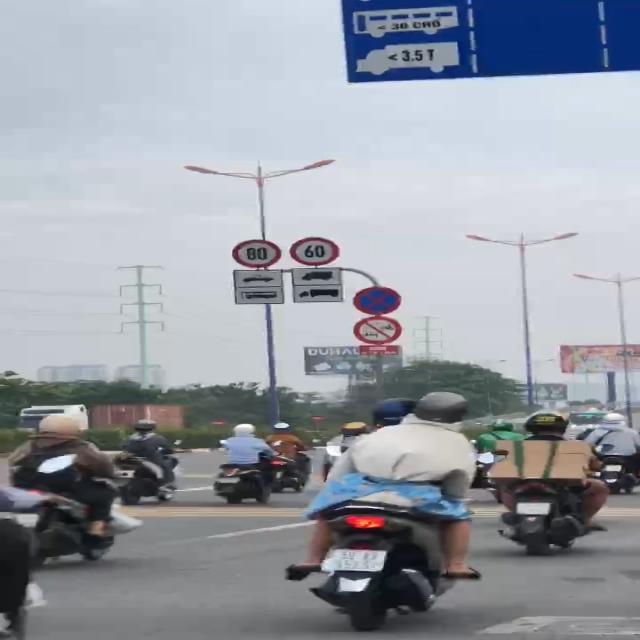Bien bao cam dung xe va do xe: (352, 285, 404, 316)
Bien bao toc do toi da cho phep: (230, 238, 282, 270), (287, 236, 338, 267)
